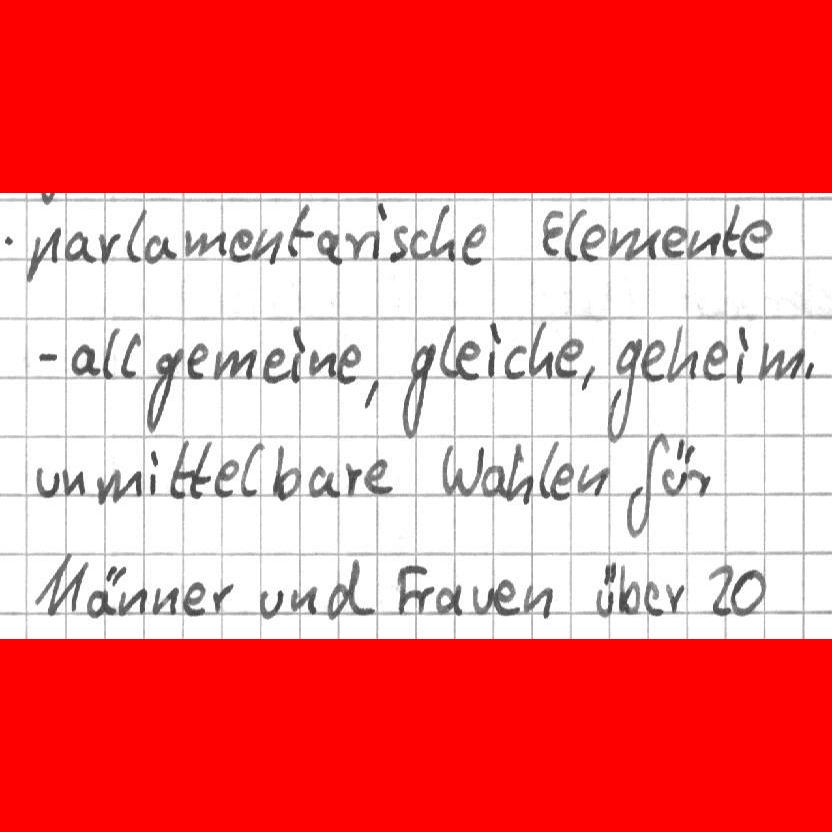Char: (604, 337, 643, 445), (625, 432, 662, 543), (33, 551, 90, 617), (143, 346, 185, 435), (399, 342, 436, 440), (326, 556, 377, 621), (439, 442, 485, 497), (93, 464, 144, 510), (665, 321, 701, 385), (660, 435, 695, 500), (756, 338, 806, 383), (504, 440, 537, 506), (85, 563, 123, 616), (26, 226, 61, 283), (730, 564, 767, 616), (607, 226, 661, 261), (272, 441, 302, 502), (285, 201, 315, 259), (429, 201, 457, 263), (526, 319, 554, 379), (168, 437, 194, 501), (187, 439, 215, 498), (238, 440, 265, 499), (211, 347, 258, 380), (706, 562, 733, 618), (738, 218, 774, 259), (450, 336, 482, 381), (396, 563, 423, 616), (701, 338, 732, 383), (307, 462, 342, 501), (459, 222, 488, 268), (184, 226, 227, 257), (618, 561, 642, 616), (261, 343, 292, 385), (639, 336, 667, 382), (594, 562, 617, 618), (564, 207, 587, 262), (536, 440, 557, 500), (117, 328, 142, 378), (436, 323, 457, 382), (213, 457, 241, 501), (68, 341, 101, 378), (522, 584, 555, 621), (251, 226, 283, 264), (64, 228, 98, 263), (555, 338, 584, 379), (493, 576, 522, 617), (686, 227, 722, 260), (578, 463, 611, 499), (686, 464, 718, 501), (370, 200, 389, 262), (125, 207, 146, 263), (362, 457, 392, 496), (432, 581, 465, 616), (540, 208, 564, 256), (143, 233, 178, 265), (722, 203, 742, 259), (101, 325, 121, 381), (180, 579, 208, 619), (335, 342, 361, 385), (289, 322, 306, 386), (575, 222, 602, 262), (549, 461, 575, 502), (314, 227, 341, 266), (60, 465, 90, 500), (484, 320, 502, 377), (735, 322, 751, 386), (116, 586, 149, 617), (256, 586, 285, 621), (479, 462, 507, 498), (227, 227, 254, 264), (149, 583, 179, 616), (288, 584, 319, 615), (660, 225, 688, 259), (209, 581, 236, 616), (502, 343, 528, 379), (185, 341, 209, 379), (35, 462, 59, 500), (344, 227, 371, 260), (387, 224, 409, 264), (308, 347, 337, 377), (469, 583, 495, 616), (643, 578, 664, 618), (660, 580, 684, 614), (413, 584, 436, 617), (408, 228, 431, 260), (99, 231, 120, 266), (147, 447, 161, 499), (344, 459, 362, 498), (361, 376, 380, 411), (578, 362, 597, 393), (34, 346, 63, 366), (0, 229, 18, 253), (802, 358, 816, 386)
